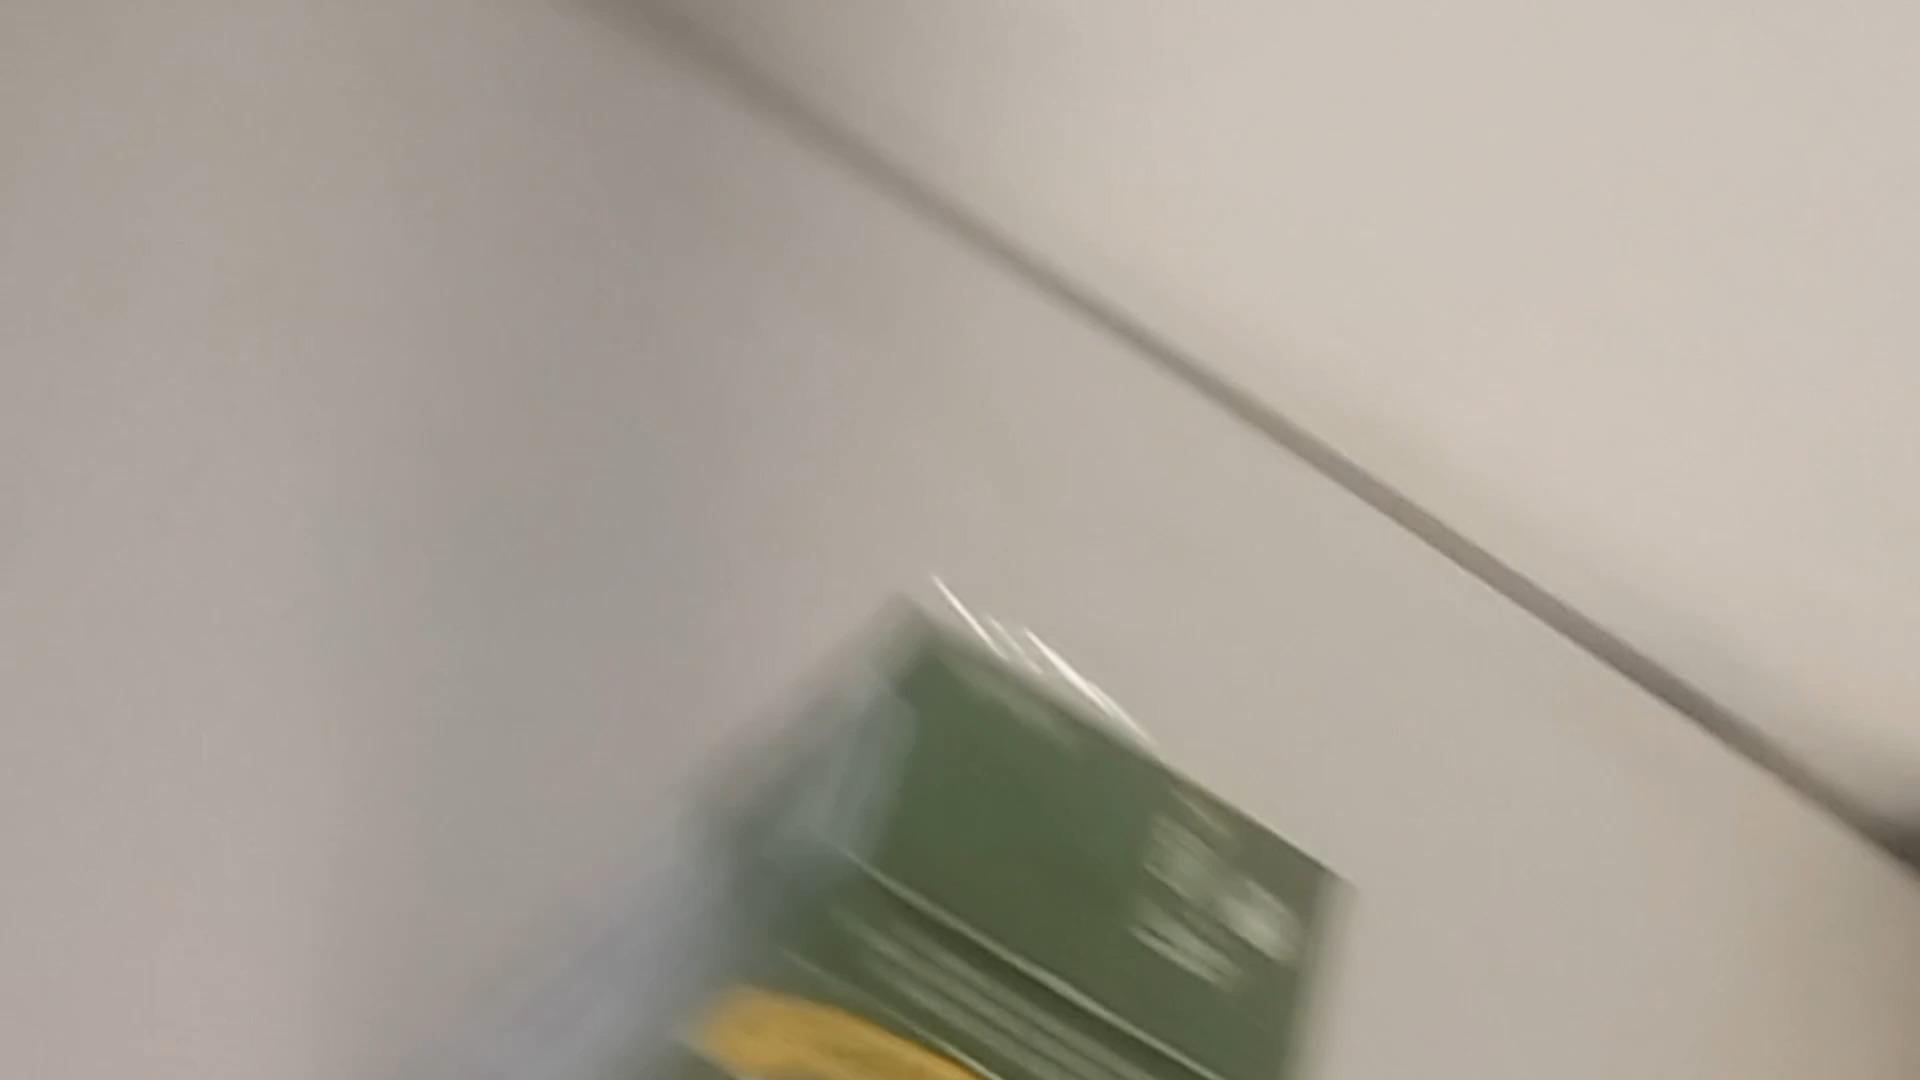coco: (533, 611, 1375, 1080)
